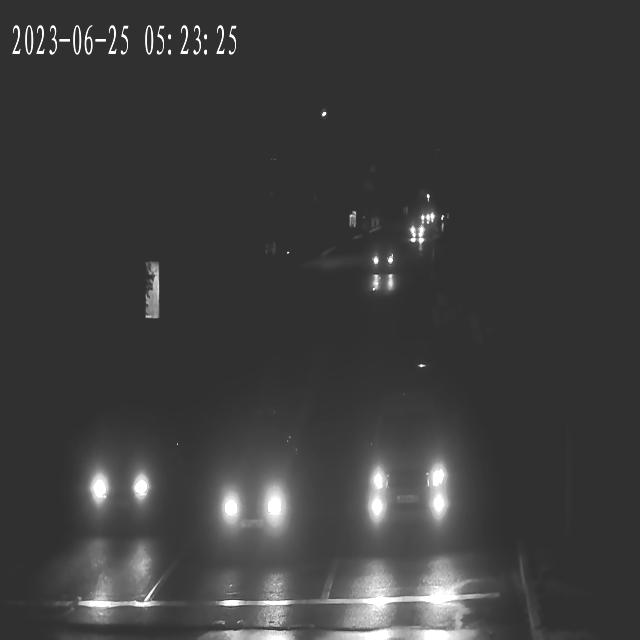Car: (356, 403, 453, 532), (215, 440, 297, 560), (84, 422, 170, 536), (368, 239, 396, 280), (410, 215, 424, 242), (422, 208, 438, 226)
